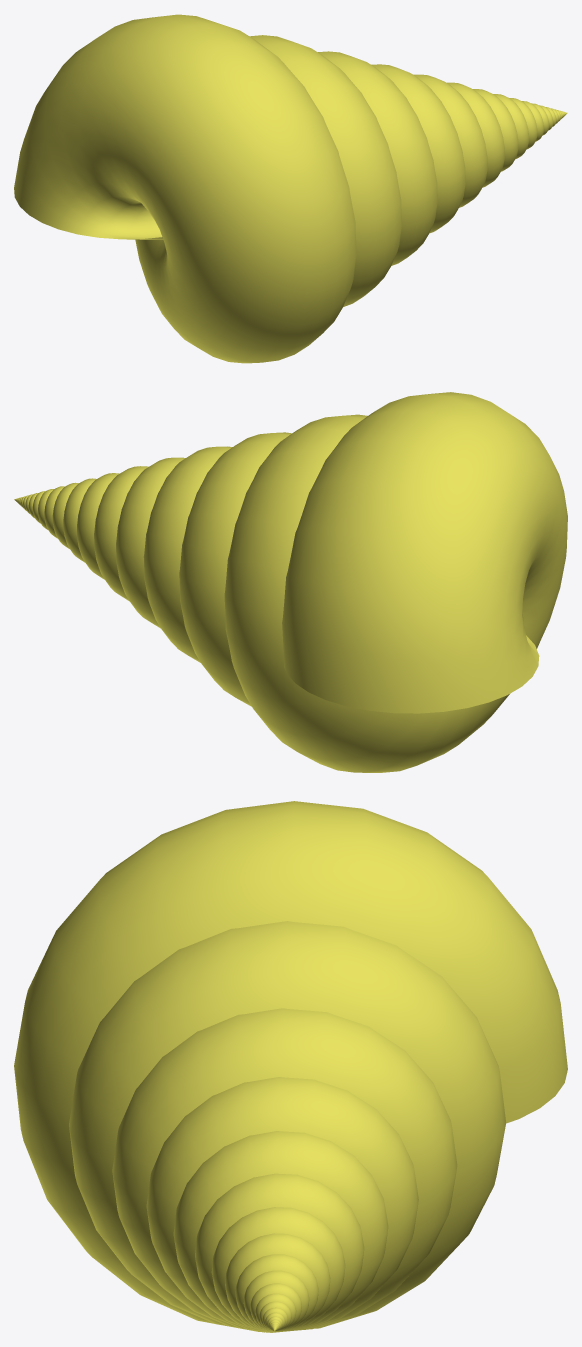
3 renders of one model, top to bottom at view 1: azimuth 30°, elevation 25°; view 2: azimuth 150°, elevation 25°; view 3: azimuth 270°, elevation 25°, orthographic. The views are drawn at different scales.
Parts seen in each view (by area): view 1: t18; view 2: t18; view 3: t18.
Boxes of the visible parts, box(x1,y1,x2,y2) form: t18: box(14, 14, 567, 363); t18: box(14, 392, 567, 772); t18: box(14, 801, 567, 1332).
Size of the model in its own units: 500 by 314 by 333.
